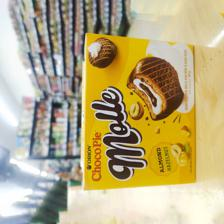Molle: (78, 29, 198, 193)
